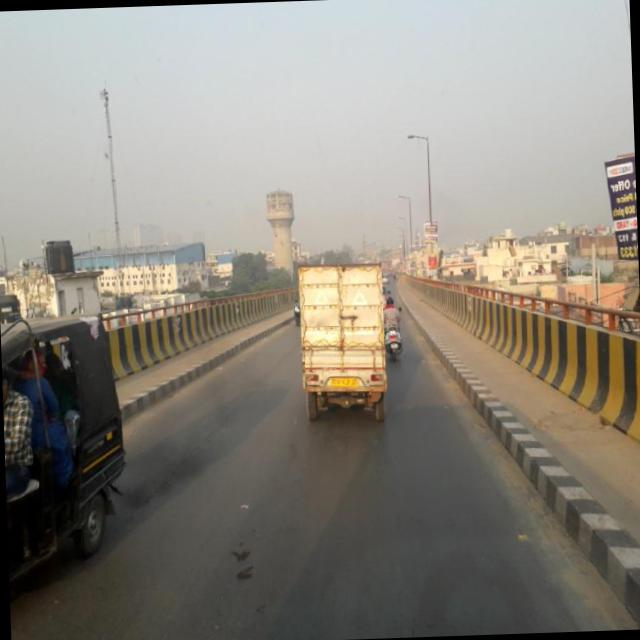pothole: (130, 356, 294, 518)
